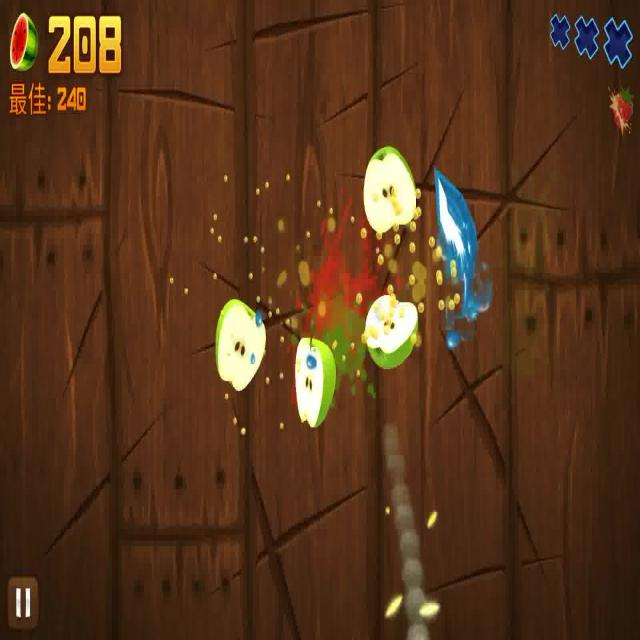fruit: (213, 299, 266, 392), (363, 146, 417, 237), (362, 291, 420, 369), (295, 321, 336, 430)
